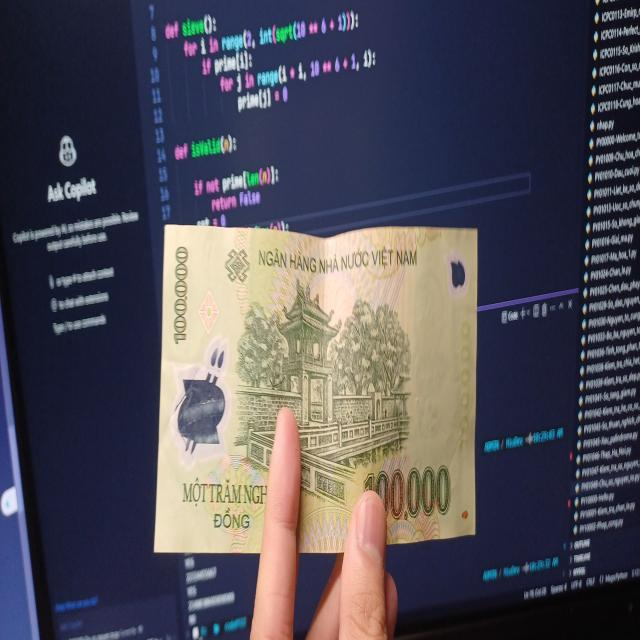100 000 VND: (150, 213, 480, 561)
